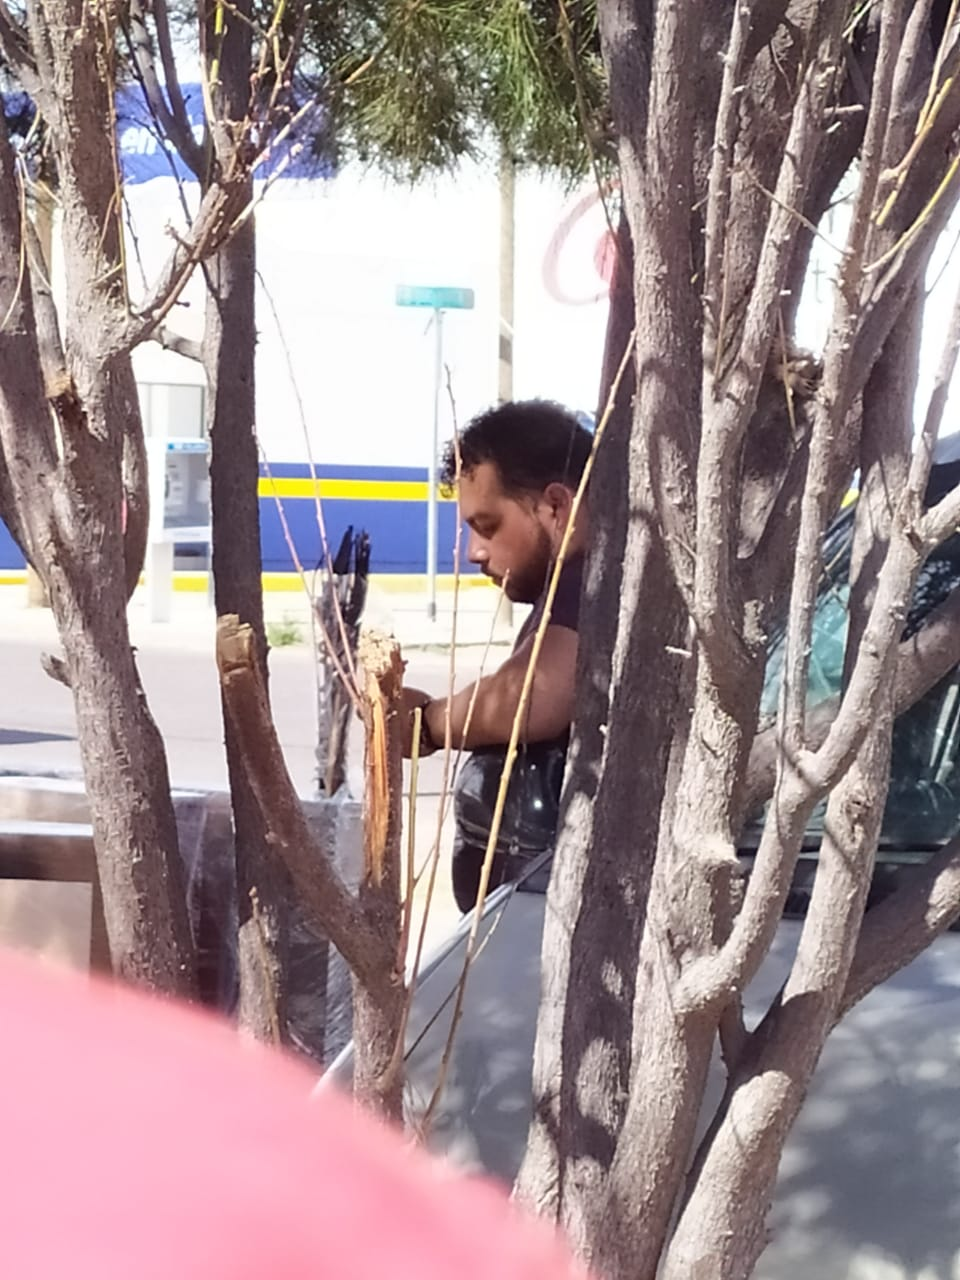Yoshi: (386, 370, 663, 838)
